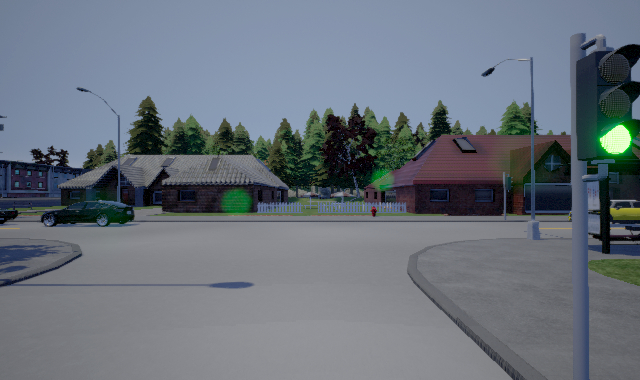traffic_light: (575, 42, 640, 159)
vehicle: (41, 200, 135, 227), (610, 200, 640, 224)
